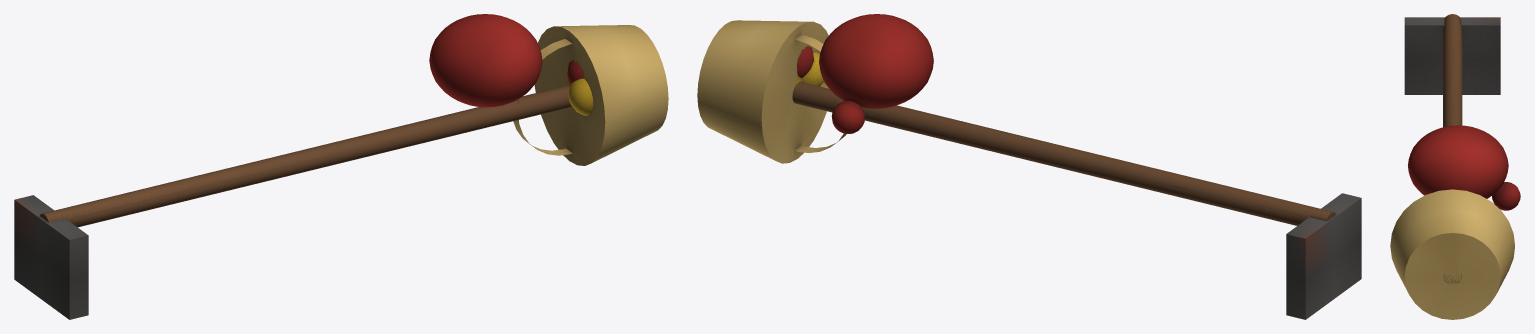
File: npc_agricultora.glb
The picture shows the model from 3 angles, left to right: view 1: azimuth 30°, elevation 25°; view 2: azimuth 150°, elevation 25°; view 3: azimuth 270°, elevation 25°; orthographic projection. The views are drawn at different scales.
Visible parts, largest first — view 1: agricultora_RightHand_peca, agricultora_LeftHand_peca, agricultora_Head_peca; view 2: agricultora_RightHand_peca, agricultora_LeftHand_peca, agricultora_Head_peca; view 3: agricultora_LeftHand_peca, agricultora_RightHand_peca, agricultora_Head_peca.
Part boxes in pixels (x1,y1,x2,y2): agricultora_RightHand_peca: (14,85,571,319); agricultora_LeftHand_peca: (513,25,668,165); agricultora_Head_peca: (429,14,542,107); agricultora_RightHand_peca: (792,82,1361,319); agricultora_LeftHand_peca: (697,20,846,163); agricultora_Head_peca: (819,14,933,133); agricultora_LeftHand_peca: (1390,189,1514,319); agricultora_RightHand_peca: (1404,14,1500,283); agricultora_Head_peca: (1408,125,1520,210).
Bounding box in the file's own units: 1.25 × 0.3356 × 0.2715.
Materials: 3 (3 with a texture image).
